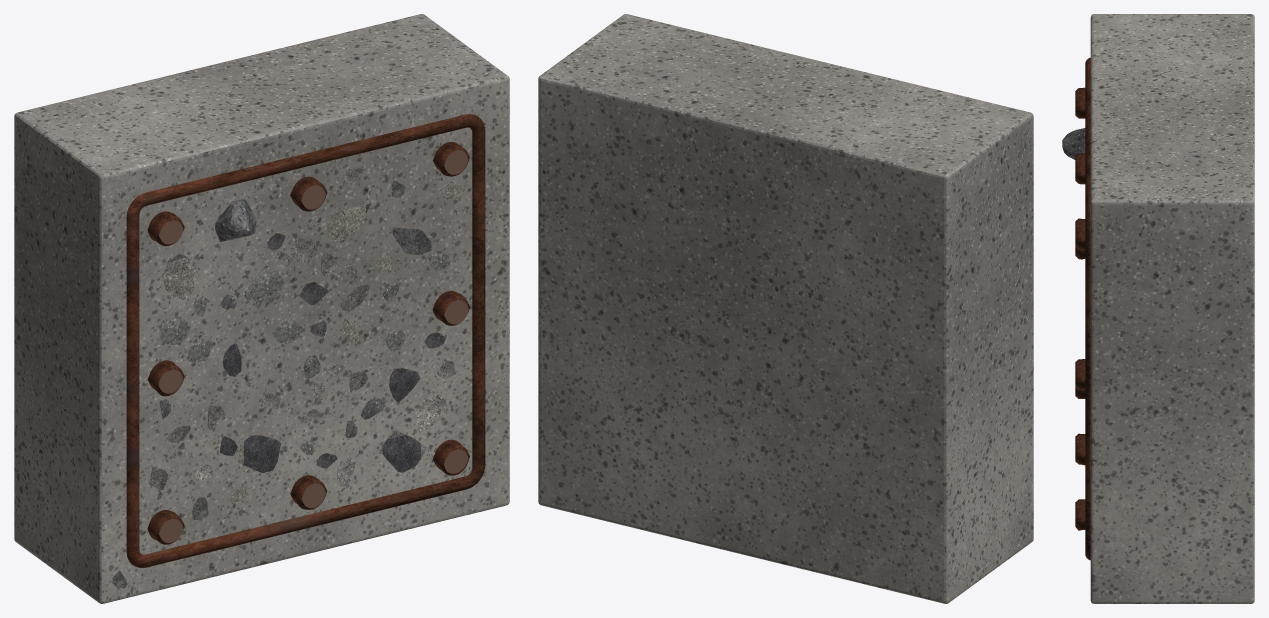
File: rcc-column.glb
3 renders of one model, left to right at view 1: azimuth 30°, elevation 25°; view 2: azimuth 150°, elevation 25°; view 3: azimuth 270°, elevation 25°, orthographic. The views are drawn at different scales.
Visible parts, largest first — view 1: Concrete, AggregateSections, Stirrup, AggregateHighlight, Rebar_02, Rebar_07, Rebar_08, Rebar_01, Rebar_03, Rebar_06, Rebar_04, Rebar_05; view 2: Concrete; view 3: Concrete, Stirrup, AggregateHighlight, Rebar_04, Rebar_02, Rebar_05, Rebar_06, Rebar_03, Rebar_08.
Part boxes in pixels (x1,y1,x2,y2): Concrete: (14, 14, 509, 603); AggregateSections: (112, 167, 464, 588); Stirrup: (126, 114, 485, 567); AggregateHighlight: (215, 199, 256, 241); Rebar_02: (433, 439, 469, 475); Rebar_07: (147, 360, 184, 396); Rebar_08: (432, 291, 469, 325); Rebar_01: (147, 510, 184, 544); Rebar_03: (147, 211, 184, 246); Rebar_06: (290, 176, 327, 211); Rebar_04: (433, 142, 469, 176); Rebar_05: (290, 475, 327, 509); Concrete: (538, 14, 1033, 603); Concrete: (1090, 14, 1254, 603); Stirrup: (1085, 57, 1090, 560); AggregateHighlight: (1062, 128, 1085, 159); Rebar_04: (1075, 218, 1085, 250); Rebar_02: (1075, 499, 1085, 530); Rebar_05: (1075, 433, 1085, 465); Rebar_06: (1075, 153, 1085, 184); Rebar_03: (1075, 87, 1085, 118); Rebar_08: (1075, 359, 1085, 389).
Size of the model in its own units: 0.19 by 0.19 by 0.0821.
Materials: 5 (4 with a texture image).
